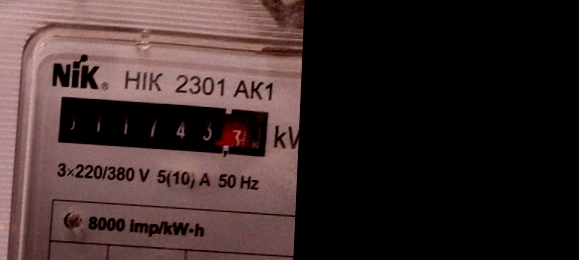0: (62, 105, 78, 132)
1: (89, 106, 105, 134), (117, 108, 131, 137)
3: (198, 116, 213, 143), (227, 127, 243, 149)
4: (172, 115, 187, 141)
7: (144, 112, 159, 138)
screen: (48, 90, 277, 164)
